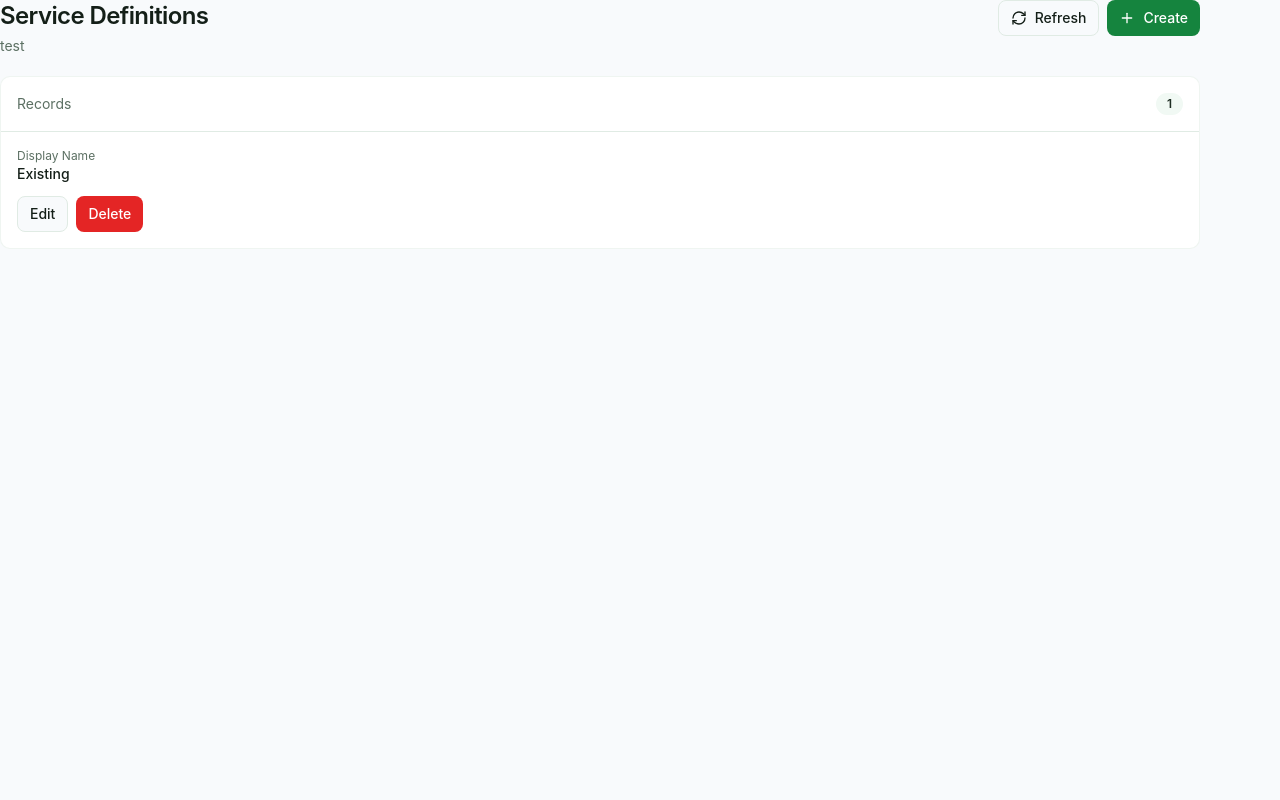
OperationsCrudPage submit feedback › shows the pending label and disables the submit button while create is in flight
Click the button "Create": point(1154, 18) 1107,0 -> 1200,36
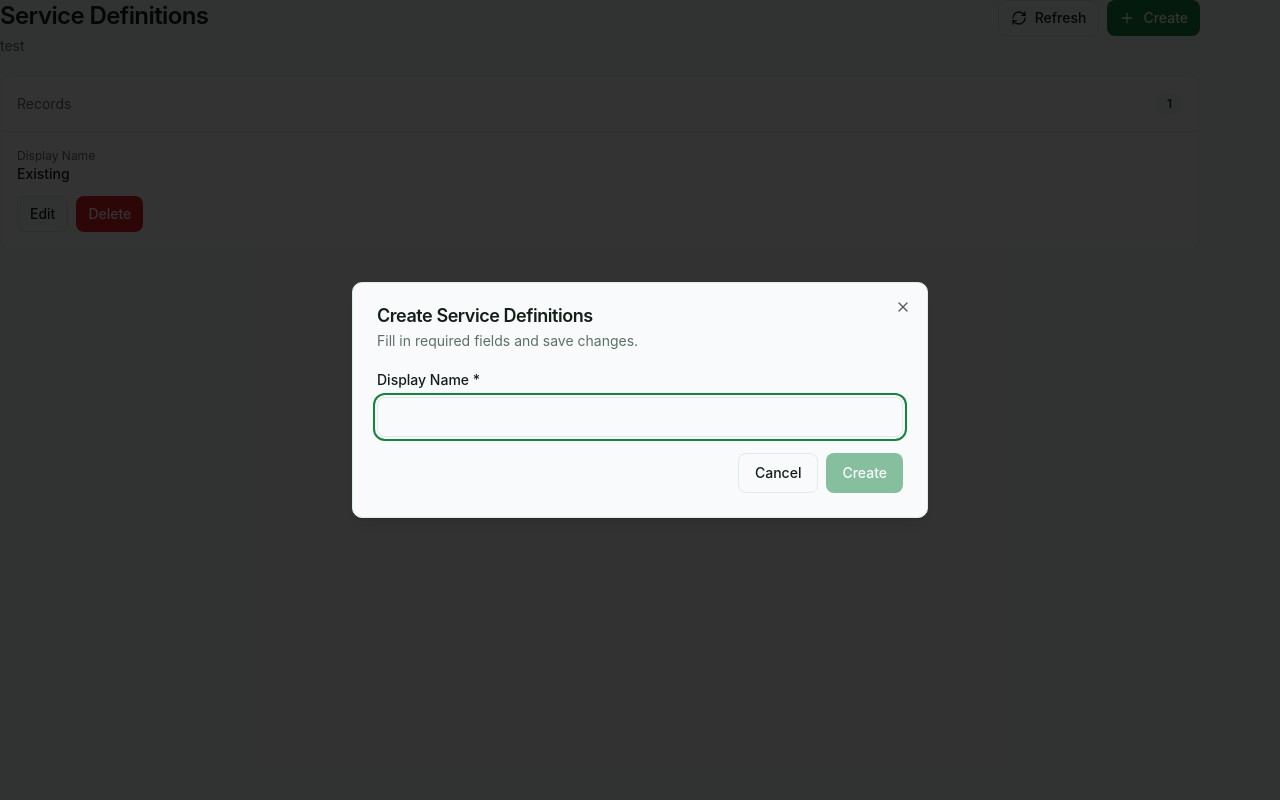
In the field labelled "Display Name *": point(640, 417) 377,397 -> 903,437, type "Home Cleaning"
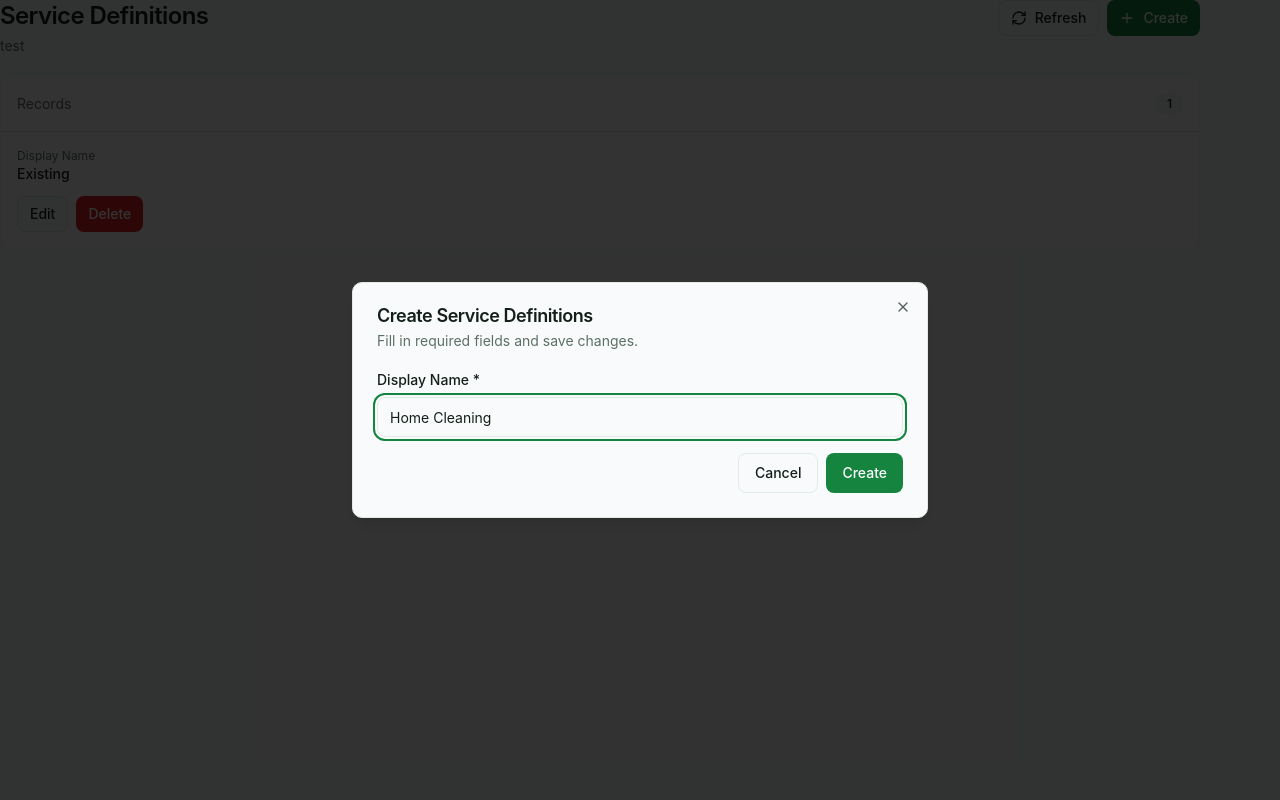
Click the button with test id "crud-submit": point(865, 473) 826,453 -> 903,493
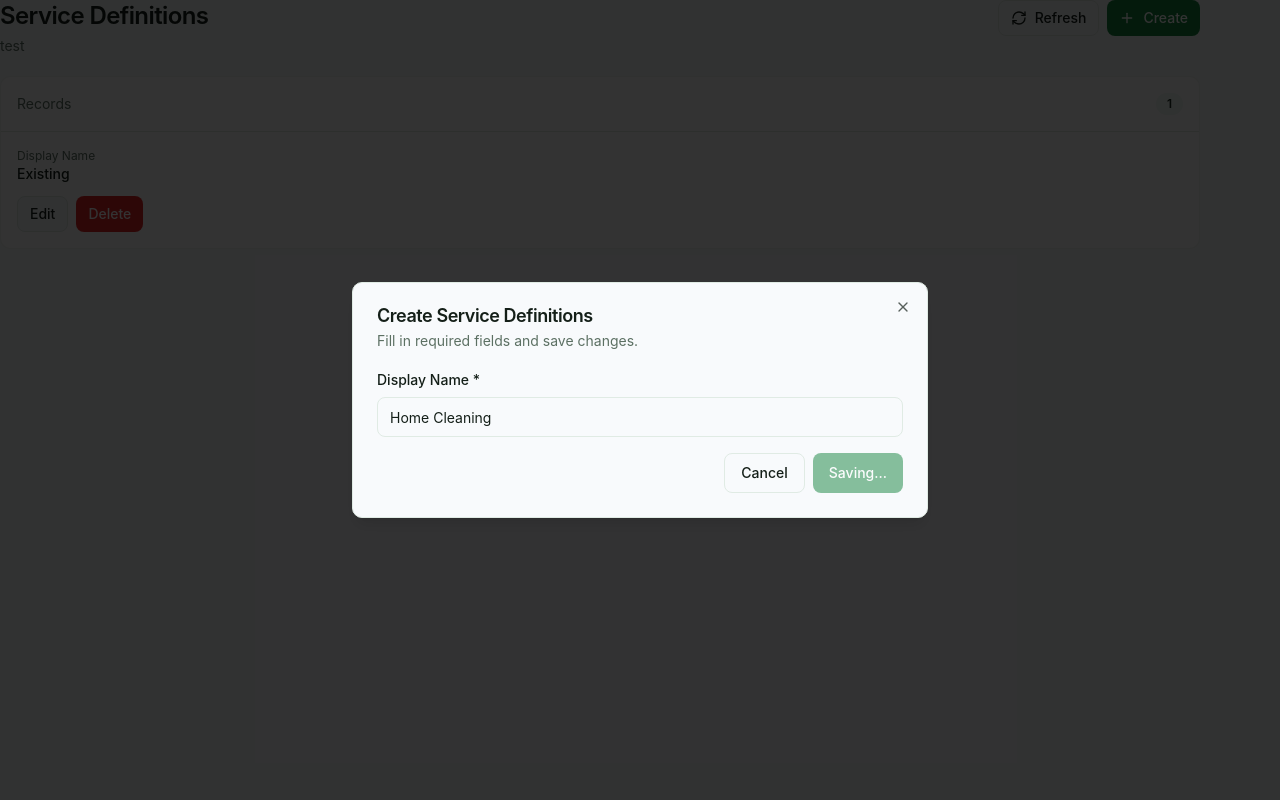
Expected: the button with test id "crud-submit" is disabled, 813,453 -> 903,493
Expected: the button with test id "crud-submit" shows "Saving", 813,453 -> 903,493
